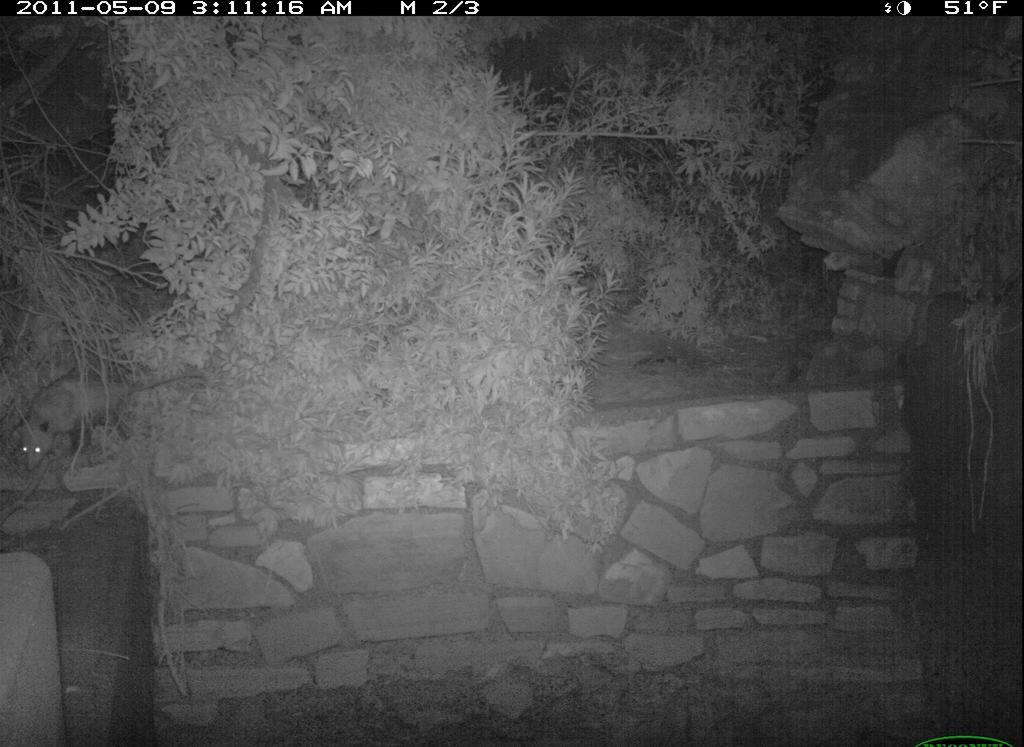opossum: (6, 363, 178, 484)
